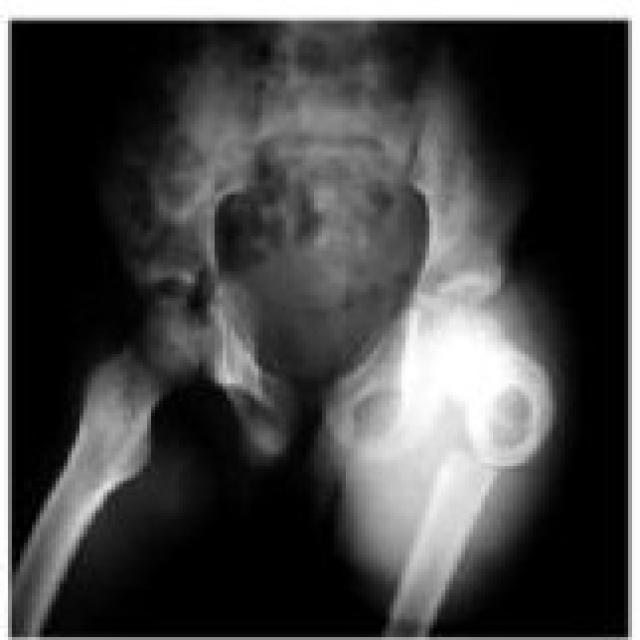pathological: (63, 290, 302, 472)
